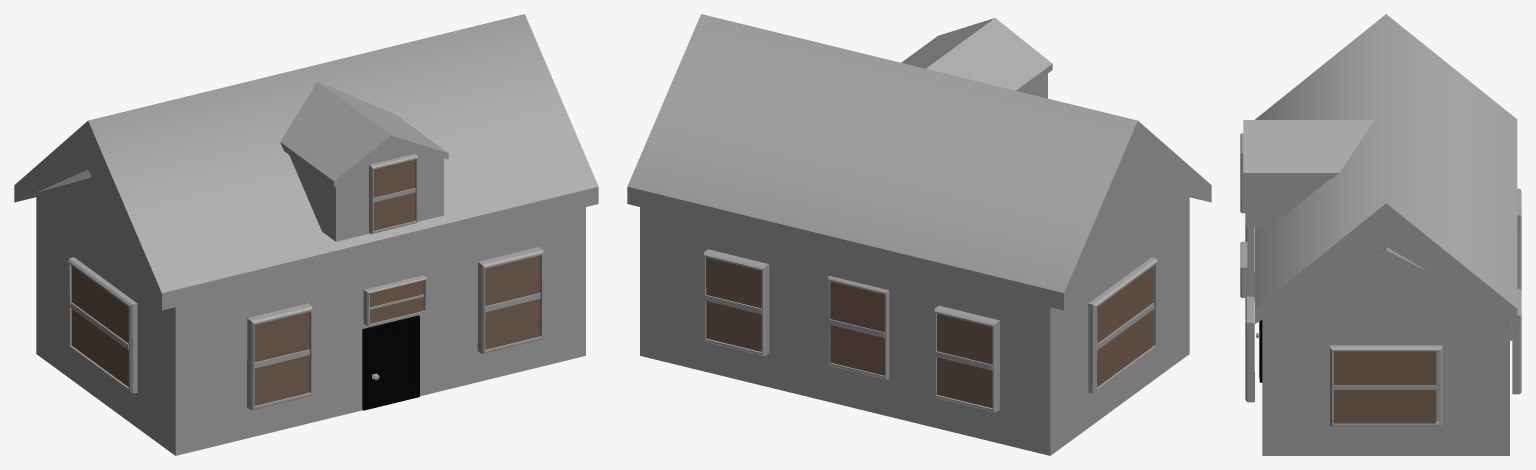
File: House1.fbx
3 views of the same model, side by side, from view 1: azimuth 30°, elevation 25°; view 2: azimuth 150°, elevation 25°; view 3: azimuth 270°, elevation 25° (orthographic). The views are drawn at different scales.
Parts seen in each view (by area): view 1: pCube246, pCube247, polySurface570, polySurface566, polySurface567, pSphere30, polySurface568, polySurface569; view 2: pCube246, pCube247, polySurface570, polySurface574, polySurface572, polySurface573; view 3: pCube246, pCube247, polySurface571, polySurface567, polySurface574, polySurface566, polySurface572, polySurface569, polySurface568.
Boxes of the visible parts, x1,y1,x2,y2 form: pCube246: [14, 14, 598, 455]; pCube247: [280, 81, 448, 241]; polySurface570: [68, 257, 137, 393]; polySurface566: [247, 303, 312, 410]; polySurface567: [477, 247, 543, 353]; pSphere30: [362, 315, 419, 410]; polySurface568: [369, 153, 417, 233]; polySurface569: [363, 275, 426, 325]; pCube246: [627, 14, 1211, 455]; pCube247: [901, 18, 1052, 98]; polySurface570: [1088, 257, 1157, 393]; polySurface574: [704, 249, 769, 355]; polySurface572: [934, 305, 999, 412]; polySurface573: [828, 276, 889, 379]; pCube246: [1255, 14, 1517, 455]; pCube247: [1243, 120, 1374, 226]; polySurface571: [1330, 345, 1442, 426]; polySurface567: [1245, 296, 1254, 402]; polySurface574: [1512, 288, 1521, 394]; polySurface566: [1245, 213, 1254, 301]; polySurface572: [1517, 188, 1521, 289]; polySurface569: [1240, 241, 1247, 297]; polySurface568: [1240, 133, 1245, 213].
Bounding box in the file's own units: 125 × 79.17 × 78.79.
